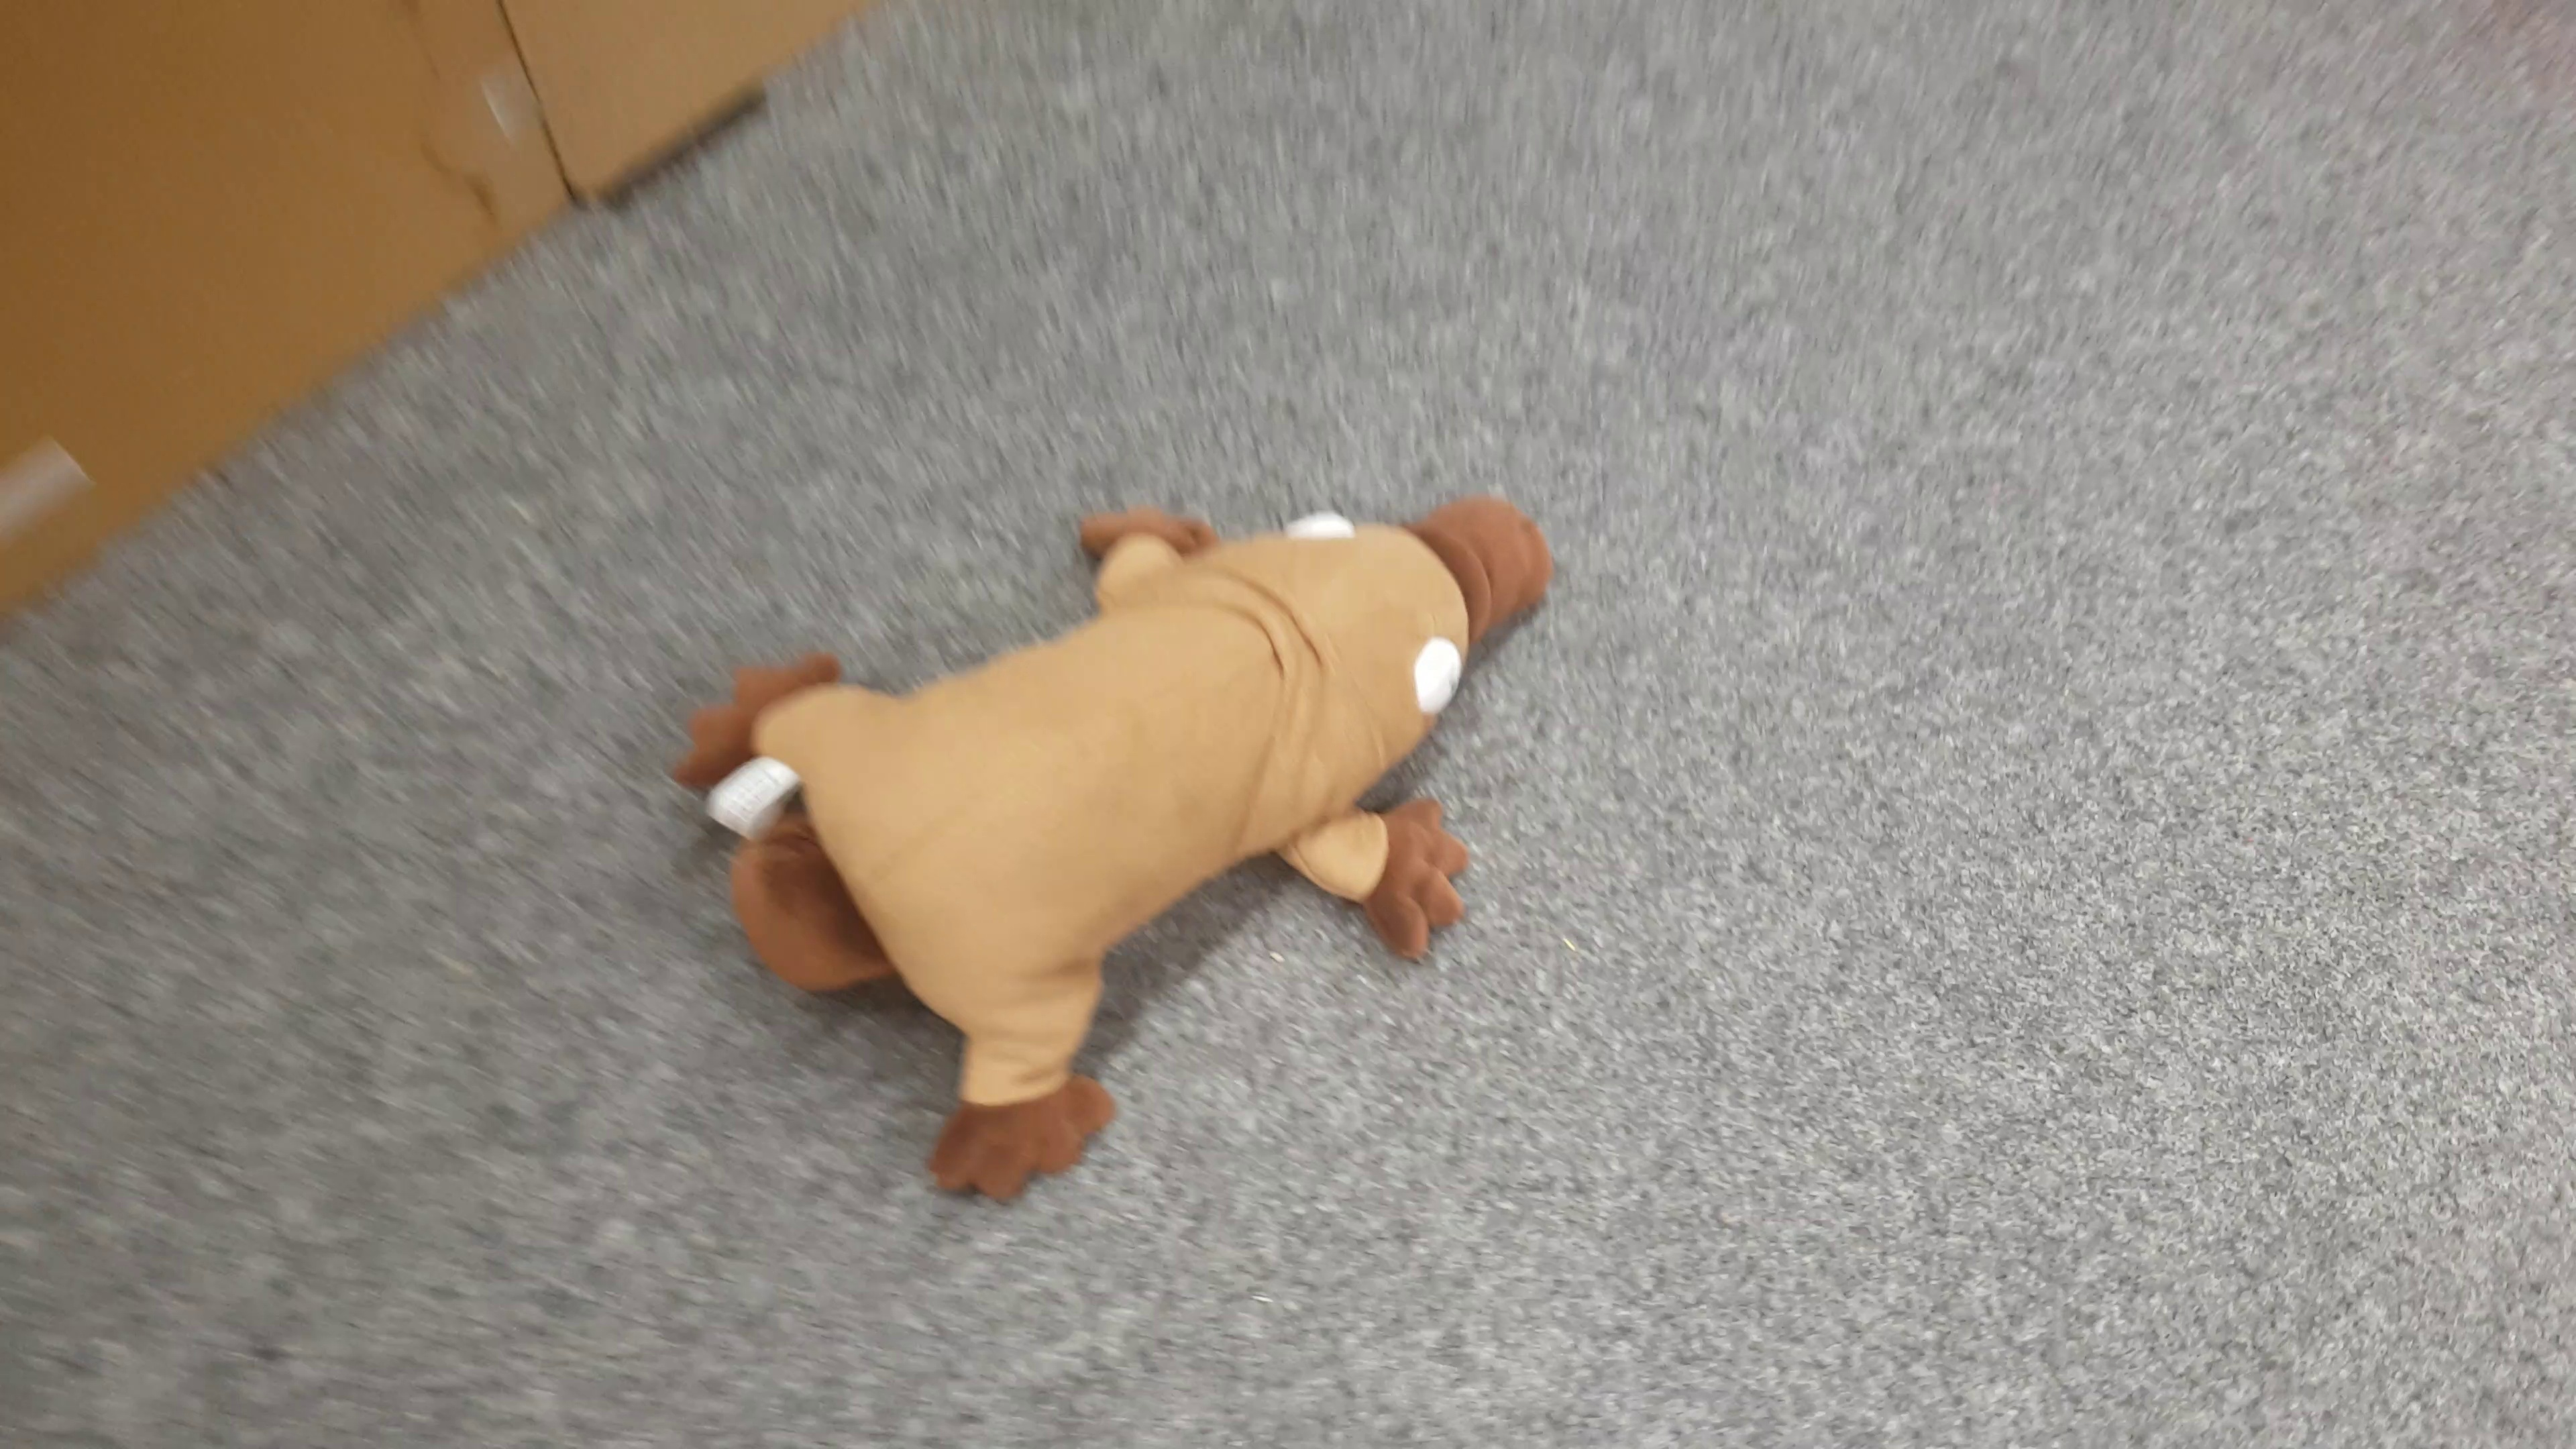grasp: (669, 495, 1555, 1201)
